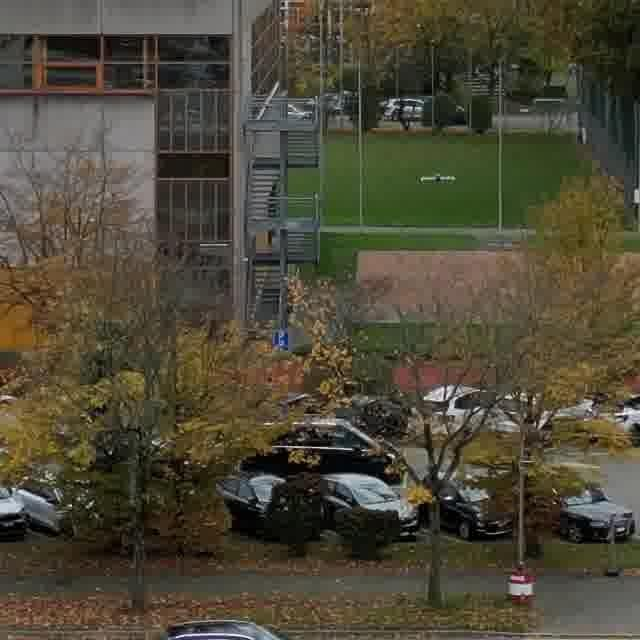Drohne: (420, 173, 455, 182)
